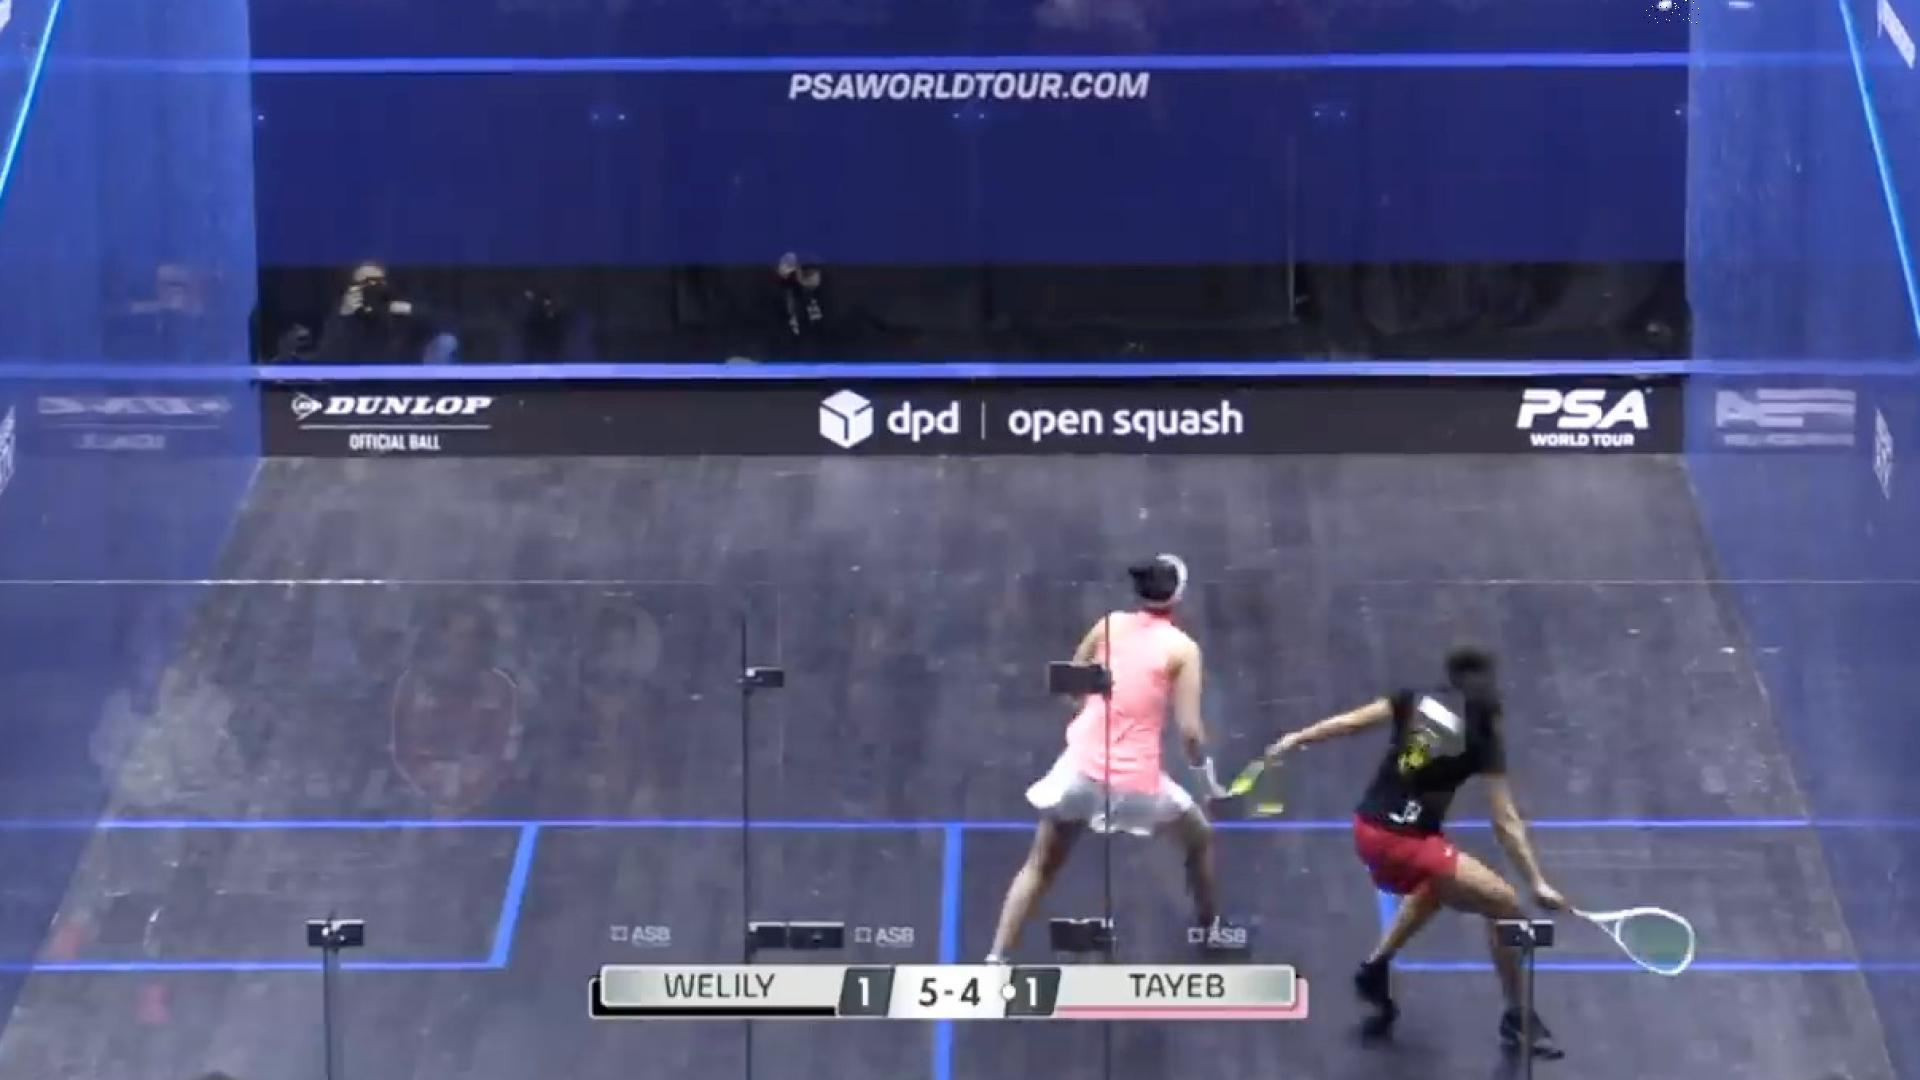Squash-Ball: (1643, 0, 1698, 24)
